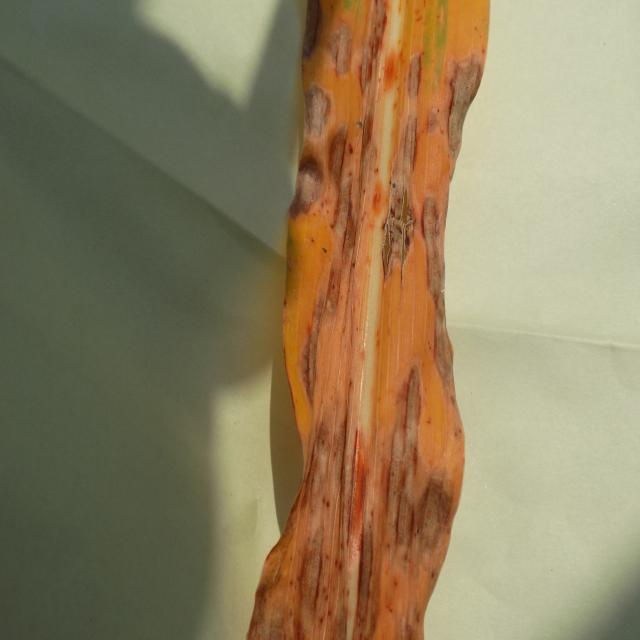millet_rust: (241, 0, 492, 640)
